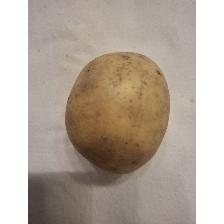Kartoffel: (62, 48, 172, 177)
